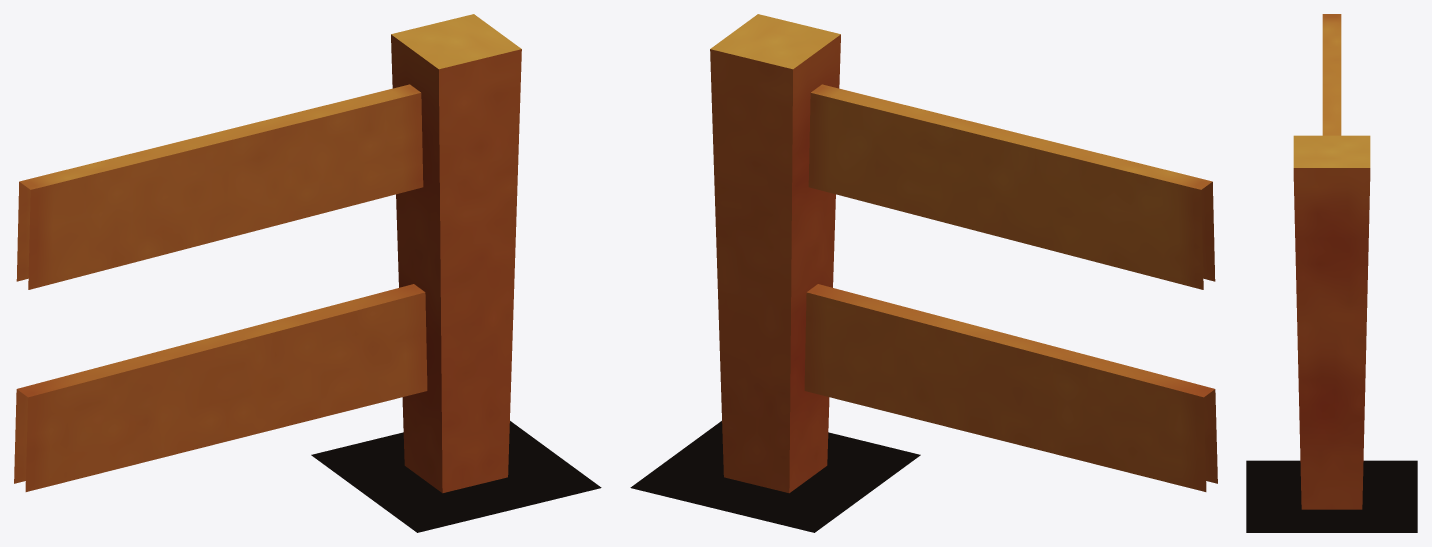
File: green_1x1_fence.FBX
3 views of the same model, side by side, from view 1: azimuth 30°, elevation 25°; view 2: azimuth 150°, elevation 25°; view 3: azimuth 270°, elevation 25° (orthographic). The views are drawn at different scales.
Visible parts, largest first — view 1: green_1x1_fence, green_1x1_fence_soft_shadow; view 2: green_1x1_fence, green_1x1_fence_soft_shadow; view 3: green_1x1_fence, green_1x1_fence_soft_shadow.
Boxes of the visible parts, x1,y1,x2,y2 form: green_1x1_fence: [14, 14, 521, 493]; green_1x1_fence_soft_shadow: [311, 421, 601, 532]; green_1x1_fence: [710, 14, 1217, 493]; green_1x1_fence_soft_shadow: [630, 421, 920, 532]; green_1x1_fence: [1293, 14, 1370, 509]; green_1x1_fence_soft_shadow: [1246, 460, 1417, 532].
Bounding box in the file's own units: 1146 × 900 × 400.
